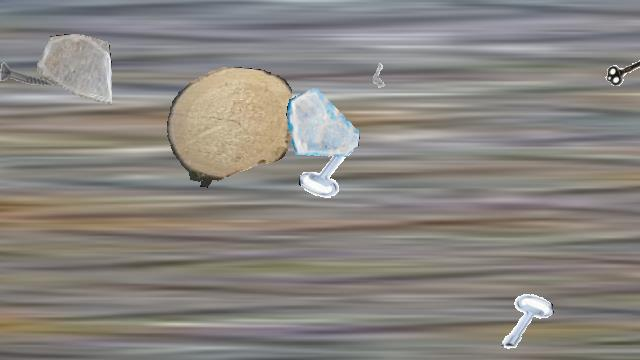glass: (37, 34, 111, 108), (286, 85, 360, 159)
metal: (299, 139, 361, 201), (0, 43, 60, 105), (494, 290, 554, 350), (603, 42, 640, 100), (360, 52, 398, 90)
wood: (167, 67, 291, 189)
